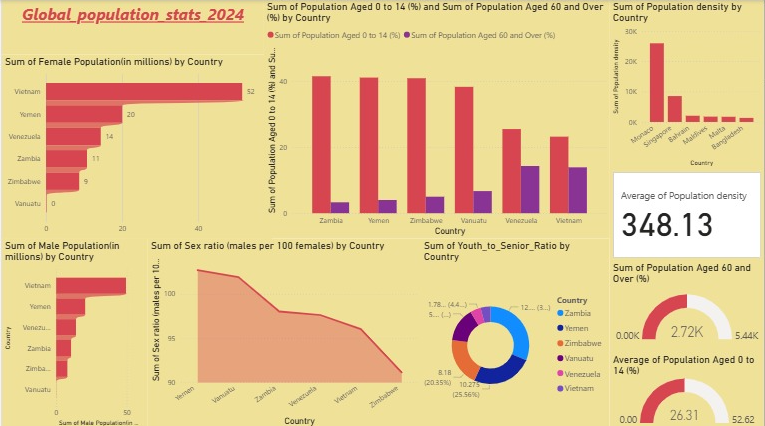

Layout of this report page (visuals, bound fields, positions):
{"tool":"powerbi","page":{"name":"Page 1","canvas":[1280,720],"ordinal":0},"visuals":[{"type":"lineStackedColumnComboChart","fields":{"Category":["global.Country"],"Y":["Sum(global.Population density)"]},"box":[1021.3,0,258.7,283.9],"z":0},{"type":"barChart","fields":{"Category":["global.Country"],"Y":["Sum(global.Male Population(in millions))"]},"box":[0,401.5,245.2,319.2],"z":1},{"type":"barChart","fields":{"Category":["global.Country"],"Y":["Sum(global.Female Population(in millions))"]},"box":[0,92.4,453.5,309.1],"z":2},{"type":"stackedAreaChart","fields":{"Category":["global.Country"],"Y":["Sum(global.Sex ratio (males per 100 females))"]},"box":[245.2,401.5,458.6,319.2],"z":3},{"type":"lineClusteredColumnComboChart","fields":{"Category":["global.Country"],"Y":["Sum(global.Population Aged 0 to 14 (%))","Sum(global.Population Aged 60 and Over (%))"]},"box":[440.1,0,581.2,401.5],"z":4},{"type":"donutChart","fields":{"Category":["global.Country"],"Y":["Sum(global.Youth_to_Senior_Ratio)"]},"box":[703.8,401.5,317.5,319.2],"z":5},{"type":"gauge","fields":{"Y":["Avg(global.Population Aged 0 to 14 (%))"]},"box":[1021.3,593,258.7,127.7],"z":7},{"type":"cardVisual","fields":{"Data":["Avg(global.Population density)"]},"box":[1021.3,283.9,258.7,154.5],"z":8},{"type":"gauge","fields":{"Y":["Sum(global.Population Aged 60 and Over (%))"]},"box":[1021.3,438.4,258.7,154.5],"z":9},{"type":"textbox","box":[0,0,440.1,92.4],"z":10}]}

Visuals, with their boxes in screenshot pixels (x1, y1, x2, y2), scaled from the page's 1280x720 canvas onto the 765x426 screenshot:
lineStackedColumnComboChart - global.Country x Sum(global.Population density): (610,0,764,168)
barChart - global.Country x Sum(global.Male Population(in millions)): (0,238,147,425)
barChart - global.Country x Sum(global.Female Population(in millions)): (0,55,271,238)
stackedAreaChart - global.Country x Sum(global.Sex ratio (males per 100 females)): (147,238,421,425)
lineClusteredColumnComboChart - global.Country x Sum(global.Population Aged 0 to 14 (%)): (263,0,610,238)
donutChart - global.Country x Sum(global.Youth_to_Senior_Ratio): (421,238,610,425)
gauge - Avg(global.Population Aged 0 to 14 (%)): (610,351,764,425)
cardVisual - Avg(global.Population density): (610,168,764,259)
gauge - Sum(global.Population Aged 60 and Over (%)): (610,259,764,351)
textbox: (0,0,263,55)
